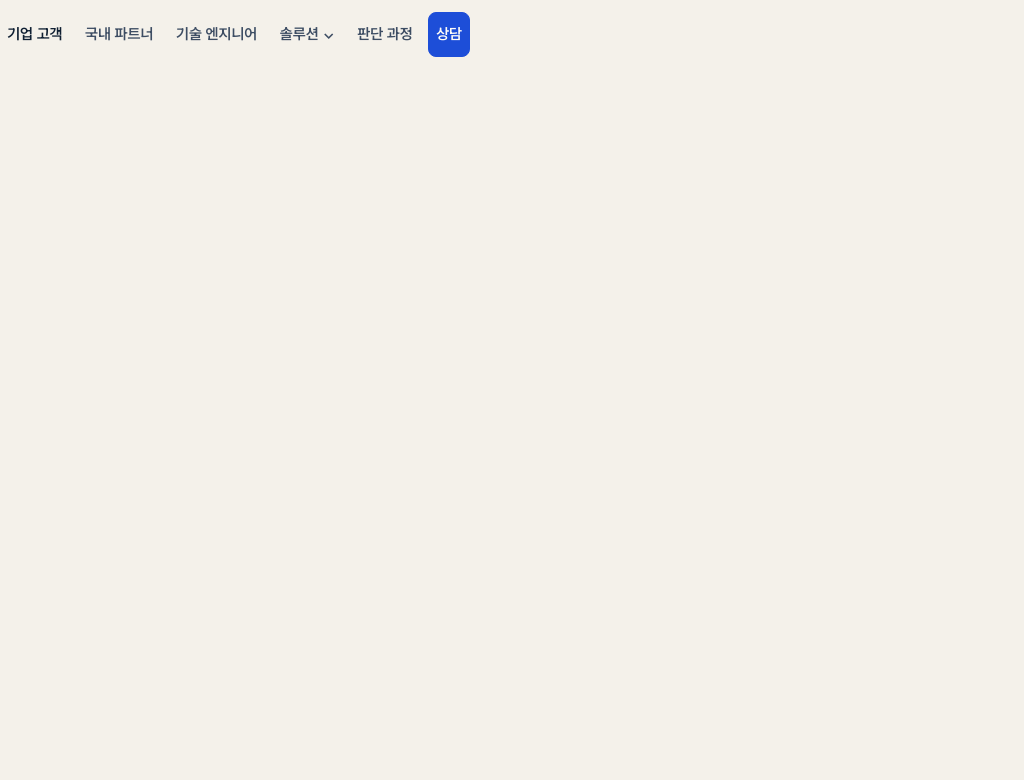
Test: desktop navigation › opens a megamenu and returns focus after Escape
Click the button with aria-label "솔루션 메뉴" at (307, 34), box [273,12,342,56]
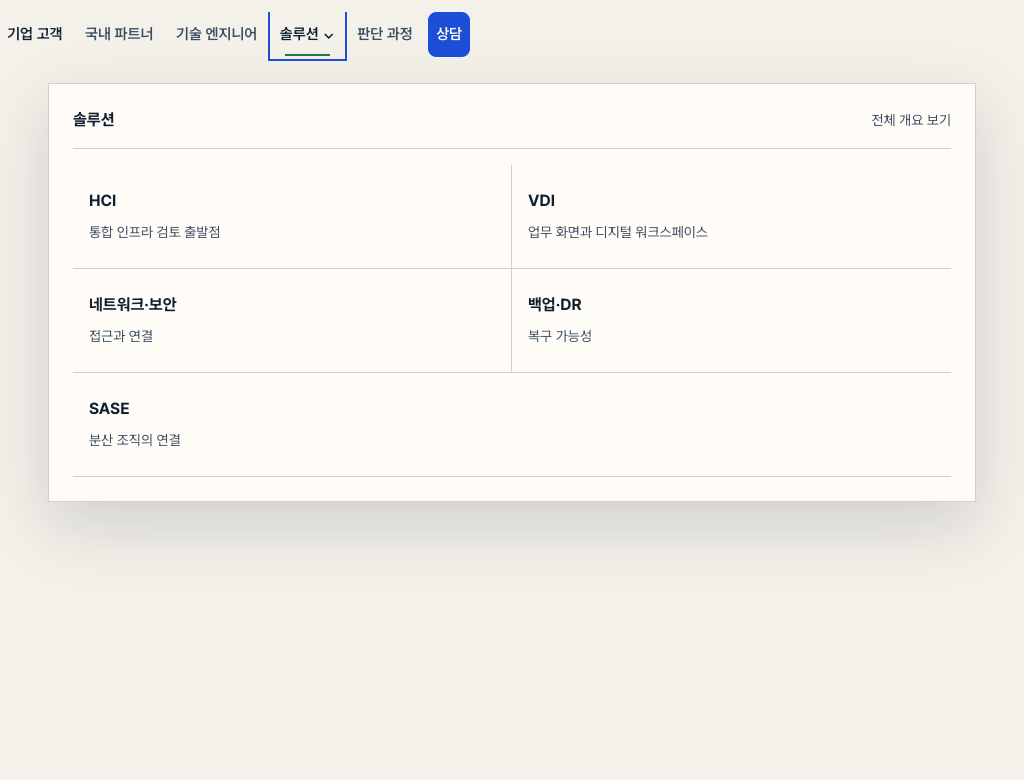
Press Escape
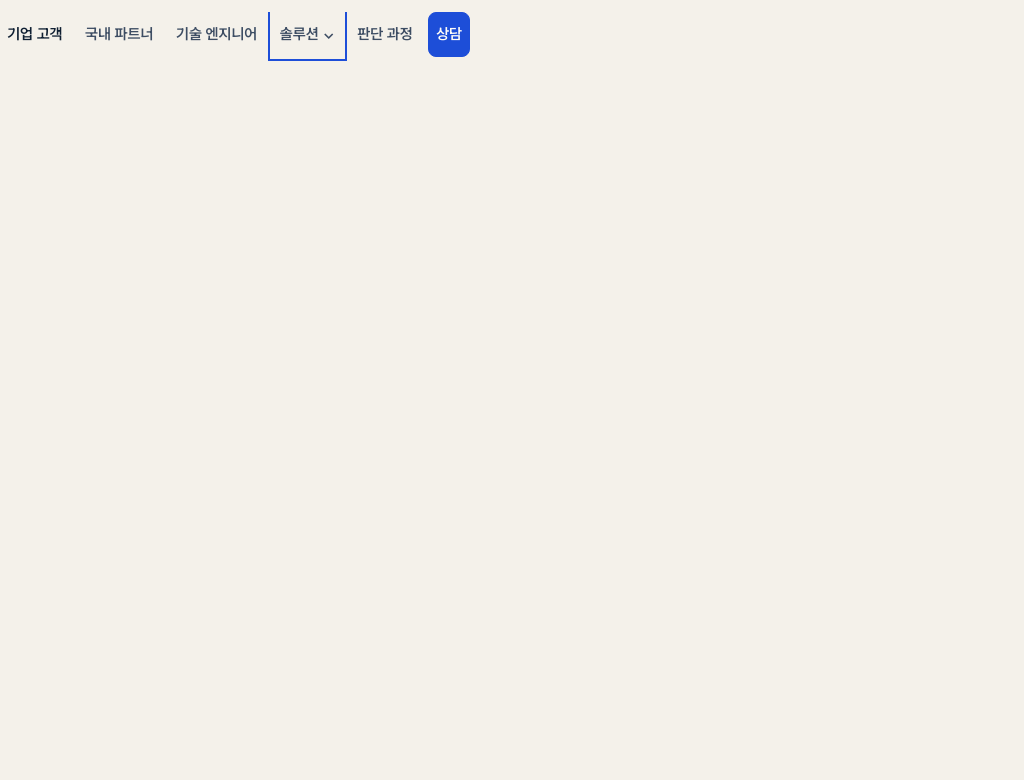
Check: the link "네트워크·보안" is gone
Check: the button with aria-label "솔루션 메뉴" is collapsed, box [273,12,342,56]
